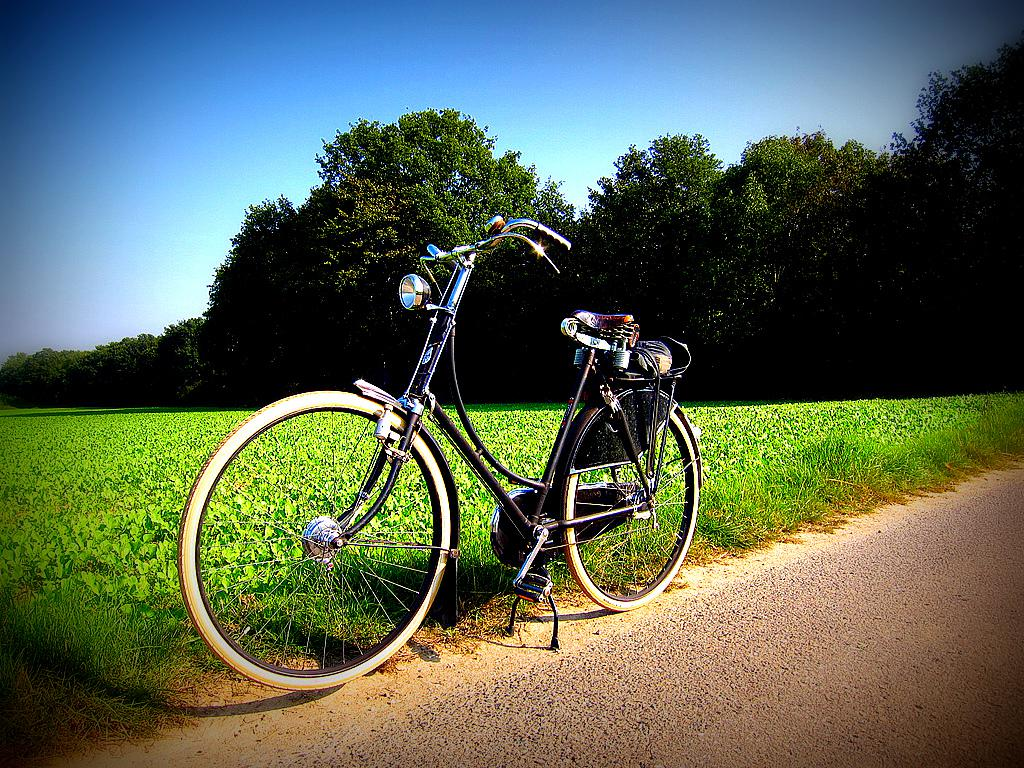Bike_toward: (163, 260, 659, 653)
